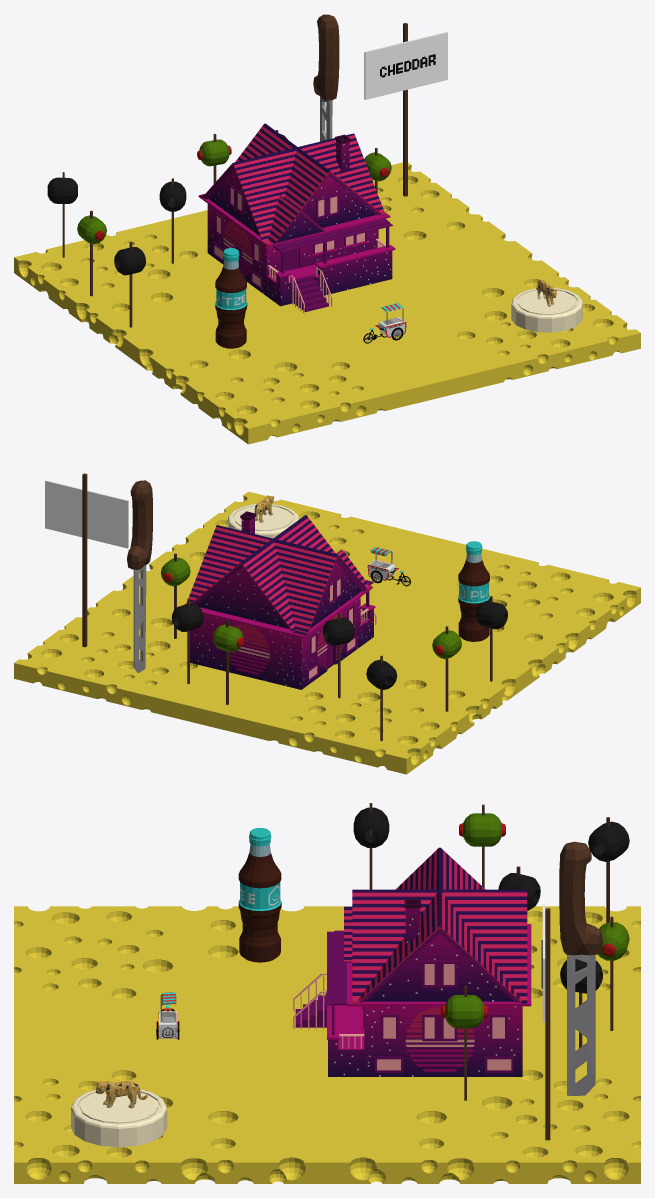
3 views of the same model, one above another, from view 1: azimuth 30°, elevation 25°; view 2: azimuth 150°, elevation 25°; view 3: azimuth 270°, elevation 25° (orthographic). The views are drawn at different scales.
Parts seen in each view (by area): view 1: Cube.022, Cube.156, Cube.023, OBJRANDOM_PLATZEECOLA, Cylinder.016, Cube.024, Sphere.017, Sphere.016, Sphere.020, Sphere.018, Sphere.022, VEHICLES_SNOWBAL_BIKE (+1 smaller); view 2: Cube.022, Cube.156, Cube.023, Cube.024, OBJRANDOM_PLATZEECOLA, Cylinder.016, Sphere.017, Sphere.020, Sphere.021, Sphere.016, Sphere.018, Sphere.022 (+2 smaller); view 3: Cube.022, Cube.156, Cube.024, OBJRANDOM_PLATZEECOLA, Cylinder.016, Cube.023, Sphere.019, Sphere.016, Sphere.018, Sphere.017, Sphere.022, VEHICLES_SNOWBAL_BIKE (+3 smaller).
Boxes of the visible parts, <box> form: Cube.022: <box>14,162,640,444</box>; Cube.156: <box>198,123,395,313</box>; Cube.023: <box>364,23,447,196</box>; OBJRANDOM_PLATZEECOLA: <box>215,248,247,348</box>; Cylinder.016: <box>511,288,582,332</box>; Cube.024: <box>313,14,339,141</box>; Sphere.017: <box>114,242,145,327</box>; Sphere.016: <box>47,172,77,257</box>; Sphere.020: <box>159,178,186,263</box>; Sphere.018: <box>77,210,106,296</box>; Sphere.022: <box>197,134,231,183</box>; VEHICLES_SNOWBAL_BIKE: <box>363,303,406,343</box>; Cube.022: <box>14,491,640,774</box>; Cube.156: <box>185,511,376,689</box>; Cube.023: <box>45,473,128,647</box>; Cube.024: <box>127,480,152,672</box>; OBJRANDOM_PLATZEECOLA: <box>458,541,489,641</box>; Cylinder.016: <box>228,504,298,538</box>; Sphere.017: <box>476,596,507,681</box>; Sphere.020: <box>322,612,354,698</box>; Sphere.021: <box>171,598,203,683</box>; Sphere.016: <box>366,655,397,741</box>; Sphere.018: <box>432,626,461,711</box>; Sphere.022: <box>212,619,244,704</box>; Cube.022: <box>14,906,640,1183</box>; Cube.156: <box>293,847,531,1076</box>; Cube.024: <box>559,841,602,1095</box>; OBJRANDOM_PLATZEECOLA: <box>238,828,281,962</box>; Cylinder.016: <box>71,1089,167,1147</box>; Cube.023: <box>541,904,550,1140</box>; Sphere.019: <box>441,986,487,1100</box>; Sphere.016: <box>588,817,629,922</box>; Sphere.018: <box>459,804,505,887</box>; Sphere.017: <box>353,803,389,889</box>; Sphere.022: <box>598,916,629,1030</box>; VEHICLES_SNOWBAL_BIKE: <box>156,992,179,1039</box>.
Bounding box in the file's own units: 3917 × 2010 × 4000.
Materials: 36 (5 with a texture image).
